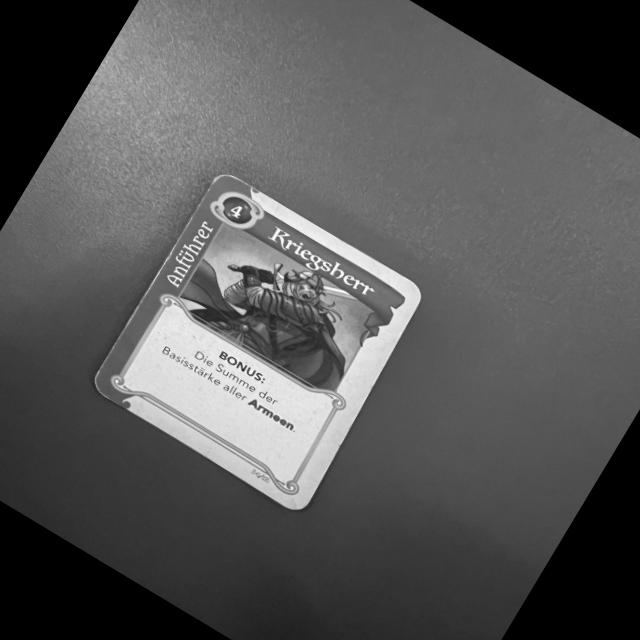Warlord: (85, 165, 429, 524)
